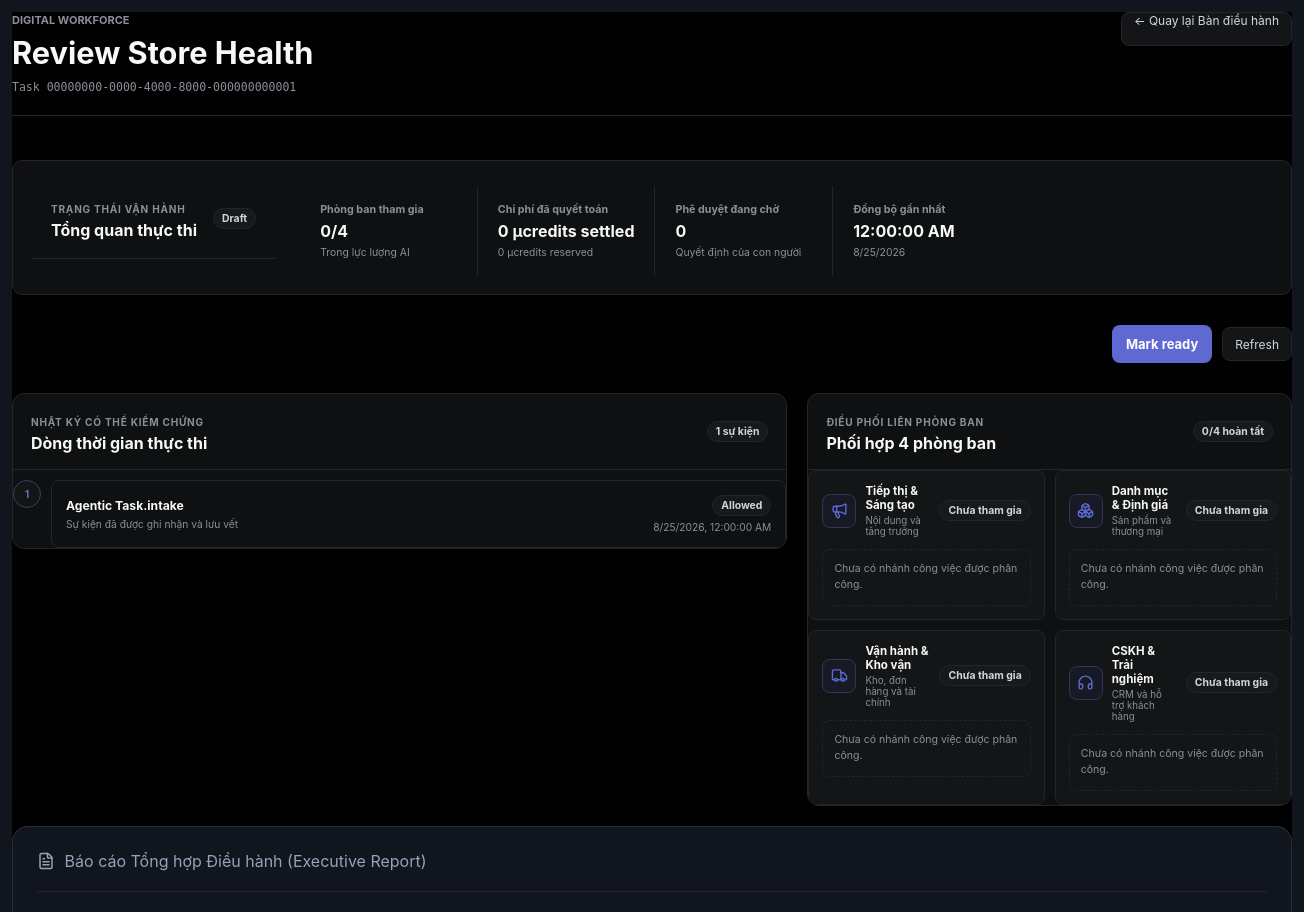
Test: AgenticTaskDetailPage › suppresses duplicate ready commands while the transition is in flight
Double-click the button "Mark ready" at (1162, 344), box left=1112, top=325, right=1212, bottom=363
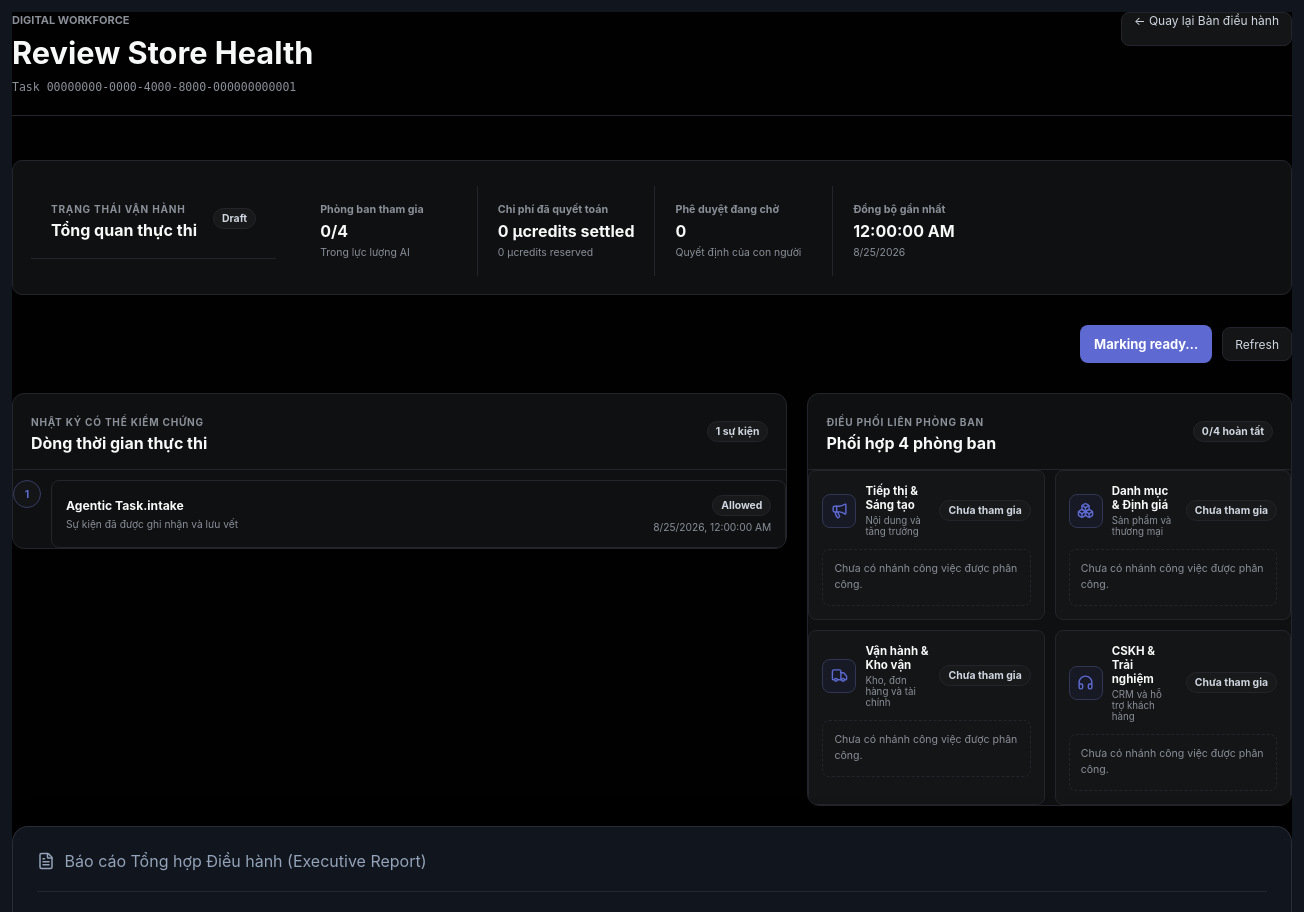
expect the button "Marking ready…" is disabled: met, box left=1080, top=325, right=1212, bottom=363
